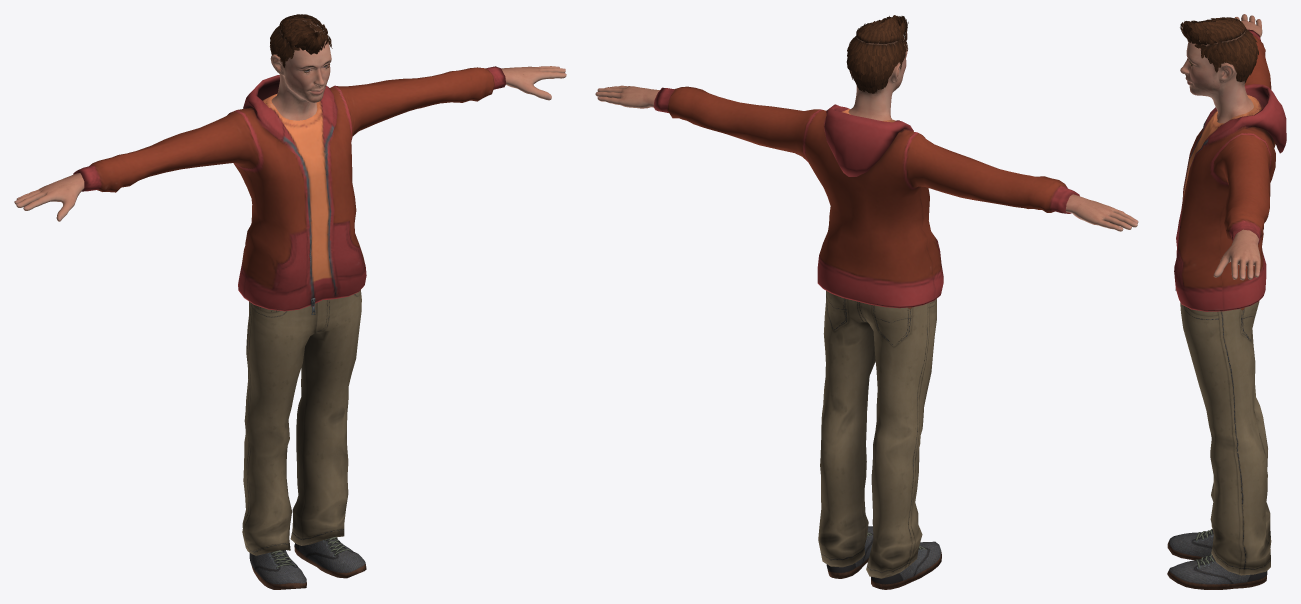
File: Fuse.obj
3 renders of one model, left to right at view 1: azimuth 30°, elevation 25°; view 2: azimuth 150°, elevation 25°; view 3: azimuth 270°, elevation 25°, orthographic.
Parts seen in each view (by area): view 1: Tops, Bottoms, Body, Shoes, Hair; view 2: Tops, Bottoms, Body, Hair, Shoes; view 3: Tops, Bottoms, Body, Shoes, Hair.
Boxes of the visible parts, x1,y1,x2,y2 form: Tops: (73, 66, 505, 314); Bottoms: (242, 290, 361, 555); Body: (14, 19, 566, 221); Shoes: (249, 536, 366, 589); Hair: (270, 14, 332, 67); Tops: (653, 86, 1079, 308); Bottoms: (818, 290, 936, 578); Body: (595, 35, 1138, 231); Hair: (846, 15, 908, 93); Shoes: (826, 526, 941, 589); Tops: (1174, 29, 1286, 311); Bottoms: (1180, 301, 1271, 575); Body: (1180, 14, 1262, 280); Shoes: (1167, 529, 1267, 589); Hair: (1180, 17, 1258, 82).
Size of the model in its own units: 187 by 180 by 35.36.
